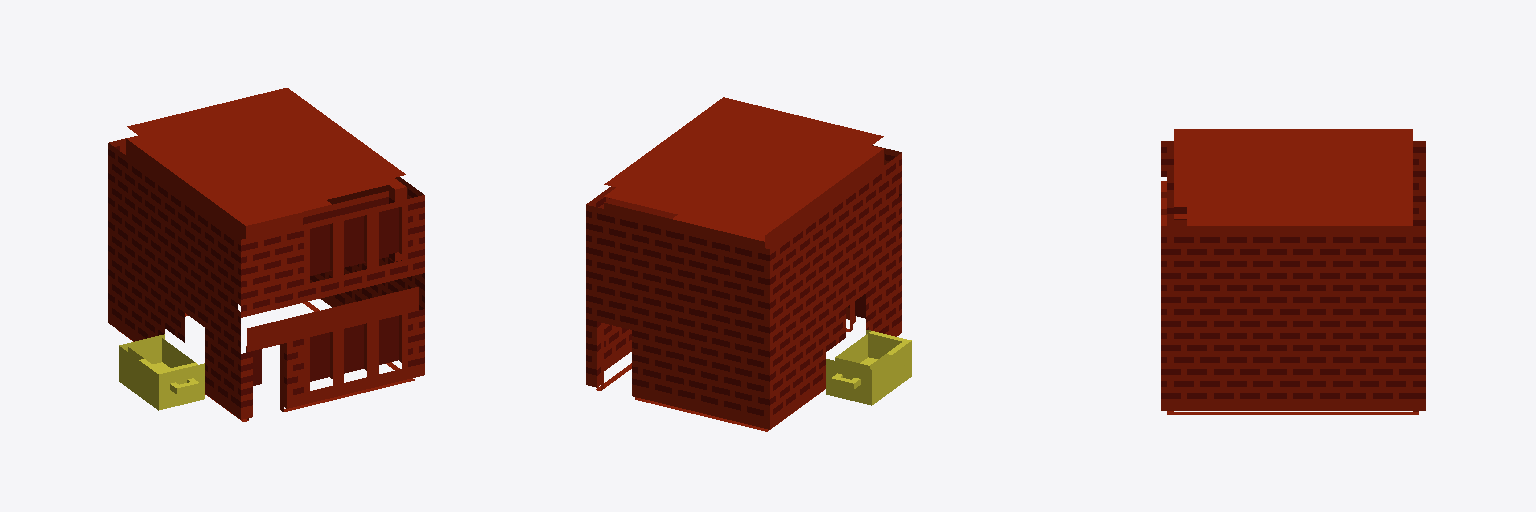
3 renders of one model, left to right at view 1: azimuth 30°, elevation 25°; view 2: azimuth 150°, elevation 25°; view 3: azimuth 270°, elevation 25°, orthographic.
Visible parts, largest first — view 1: hot_dogs2; view 2: hot_dogs2; view 3: hot_dogs2.
Part boxes in pixels (bbox=[...]): hot_dogs2: bbox=[108, 88, 424, 421]; hot_dogs2: bbox=[586, 97, 911, 431]; hot_dogs2: bbox=[1161, 129, 1425, 414].
Bounding box in the file's own units: 42 × 36 × 48.
Materials: 1 (1 with a texture image).